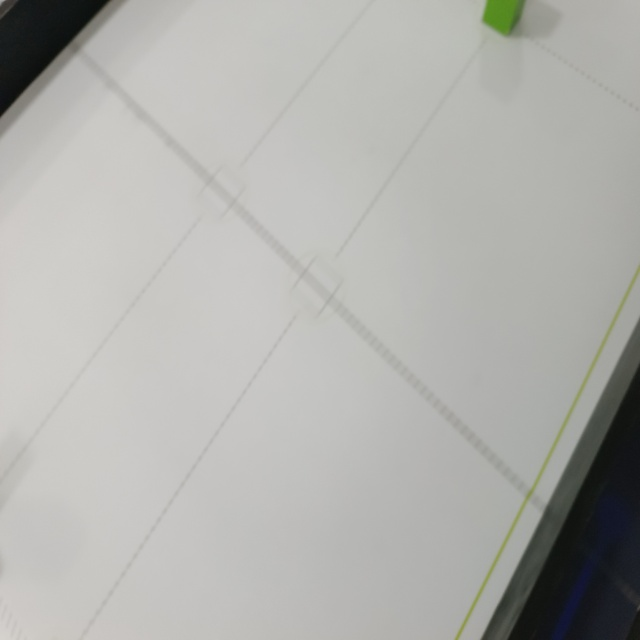green rectangular prism: (480, 0, 531, 36)
